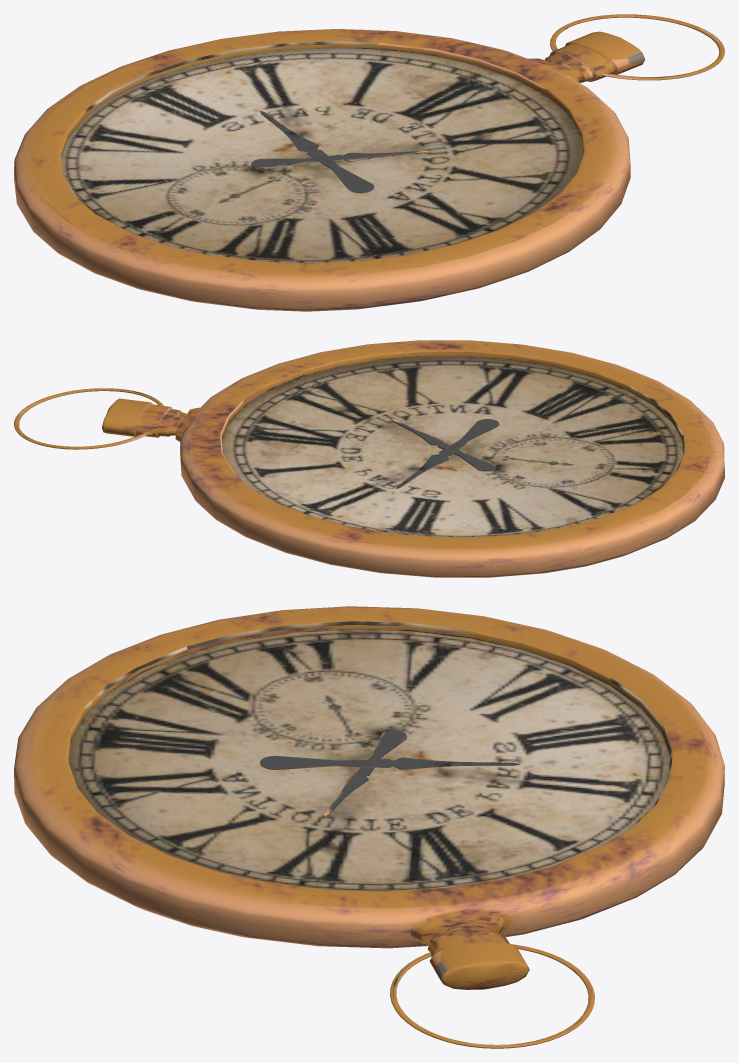
Rendered from Vintage watch.fbx.
3 renders of one model, top to bottom at view 1: azimuth 30°, elevation 25°; view 2: azimuth 150°, elevation 25°; view 3: azimuth 270°, elevation 25°, orthographic. The views are drawn at different scales.
Parts seen in each view (by area): view 1: Clock 3; view 2: Clock 3; view 3: Clock 3.
Part boxes in pixels (<box>): Clock 3: <box>14,14,724,311</box>; Clock 3: <box>14,340,724,577</box>; Clock 3: <box>14,606,724,1048</box>.
Bounding box in the file's own units: 17.5 × 0.8193 × 12.67.
